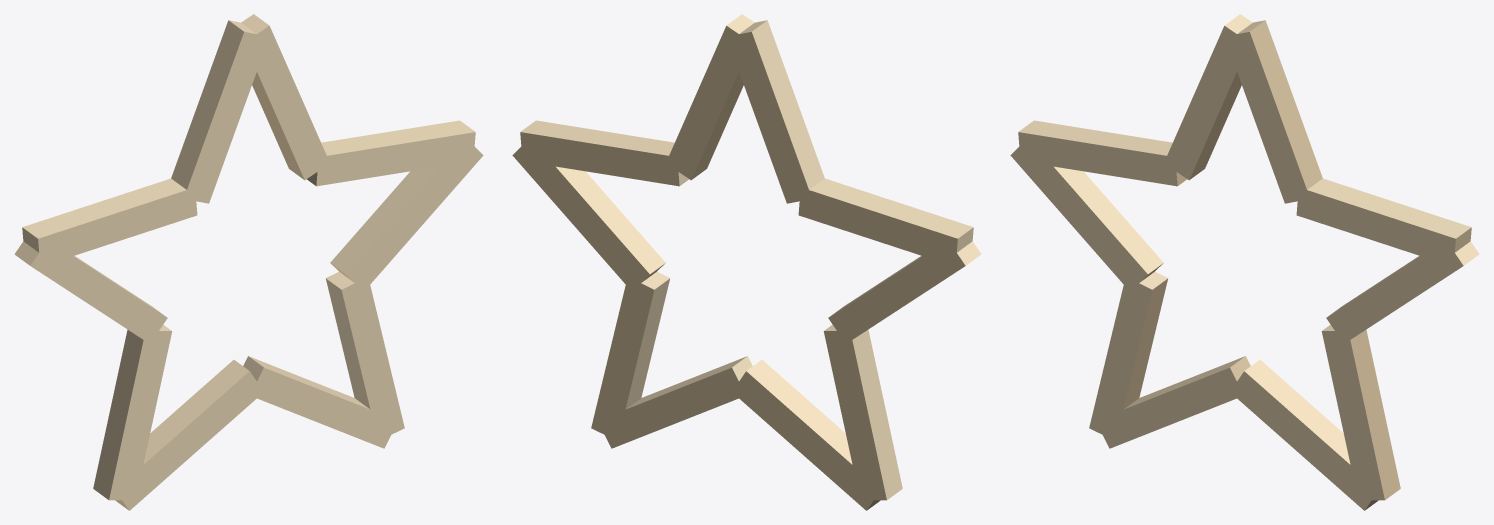
Rendered from star_empty.glb.
3 views of the same model, side by side, from view 1: azimuth 30°, elevation 25°; view 2: azimuth 150°, elevation 25°; view 3: azimuth 330°, elevation 25° (orthographic).
Parts seen in each view (by area): view 1: star; view 2: star; view 3: star.
Boxes of the visible parts, x1,y1,x2,y2 form: star: (14,14,483,510); star: (512,14,981,510); star: (1010,14,1479,510).
Size of the model in its own units: 0.0495 by 0.0471 by 0.003.
